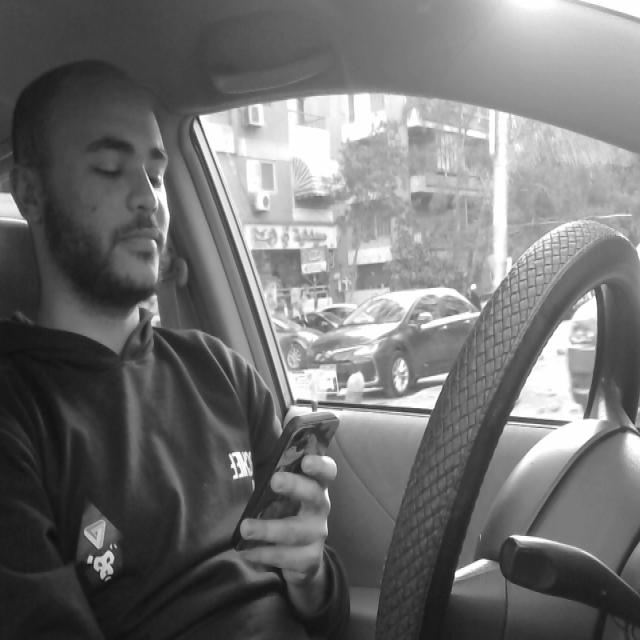mobile use: (232, 404, 342, 568)
